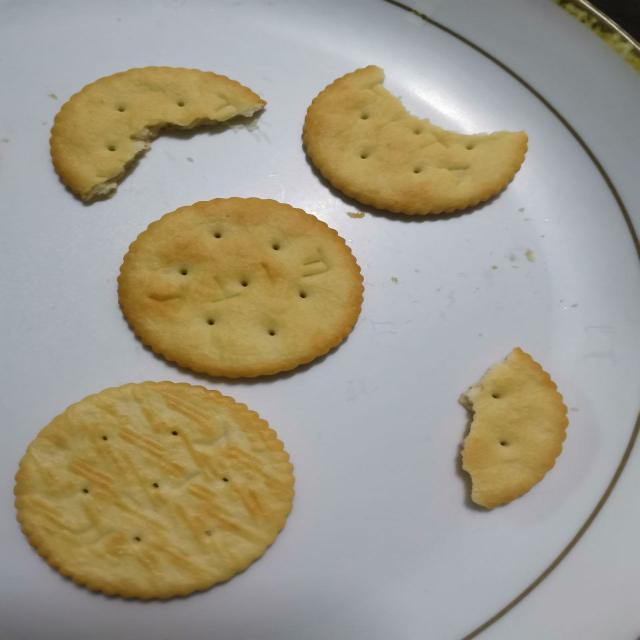broken biscuit: (300, 63, 529, 217), (47, 64, 267, 204), (456, 346, 570, 510)
intact biscuit: (12, 379, 297, 601), (115, 195, 365, 379)
